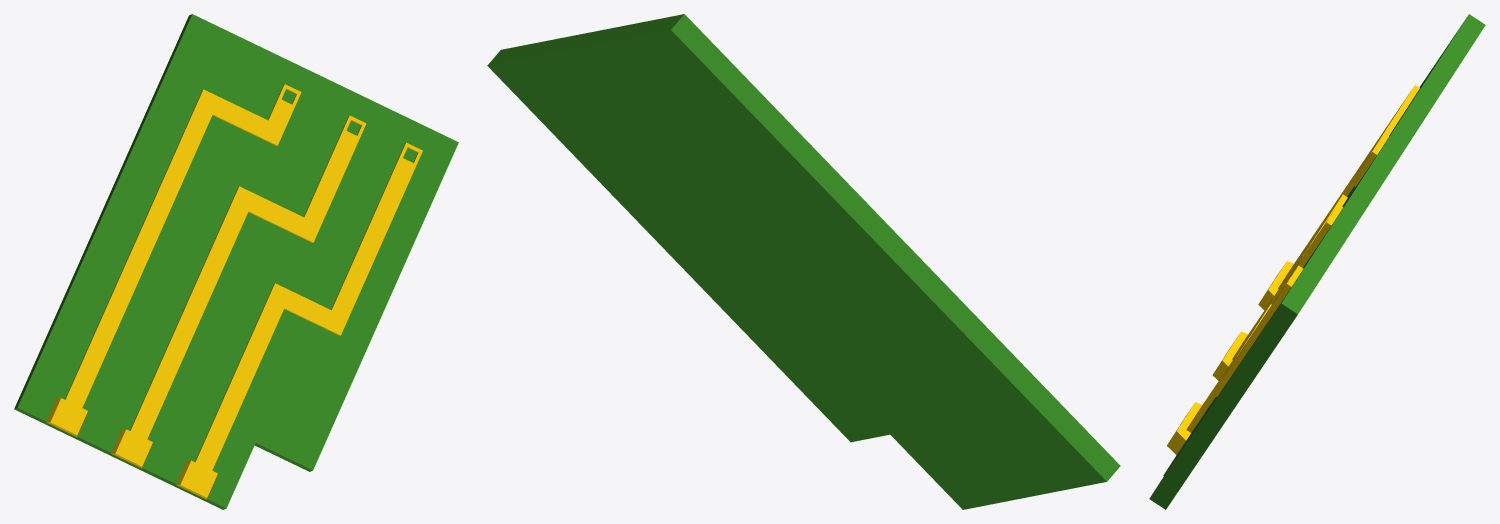
The model's file is ElBoard.fbx.
The picture shows the model from 3 angles, left to right: view 1: azimuth 30°, elevation 25°; view 2: azimuth 150°, elevation 25°; view 3: azimuth 270°, elevation 25°; orthographic projection. The views are drawn at different scales.
Parts seen in each view (by area): view 1: Drop Electric; view 2: Drop Electric; view 3: Drop Electric.
Part boxes in pixels (x1=…): Drop Electric: x1=14, y1=14, x2=458, y2=509; Drop Electric: x1=487, y1=14, x2=1120, y2=509; Drop Electric: x1=1149, y1=14, x2=1485, y2=509.
Bounding box in the file's own units: 0.7969 × 0.4061 × 0.6969.
